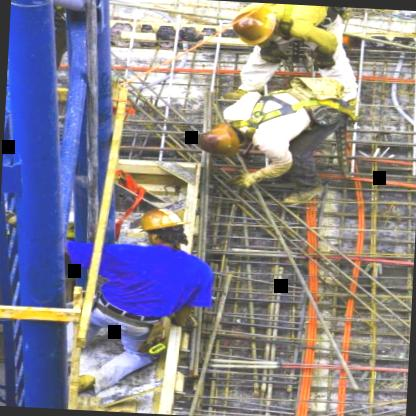helmet: (132, 204, 192, 249), (226, 5, 279, 47), (197, 122, 246, 162)
